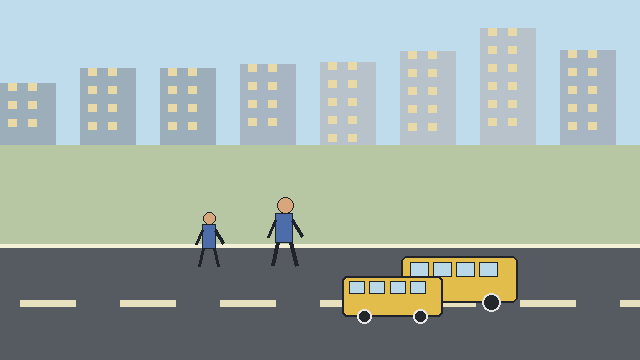bus: (401, 256, 517, 311), (342, 276, 442, 323)
person: (268, 197, 304, 267), (196, 212, 224, 267)
